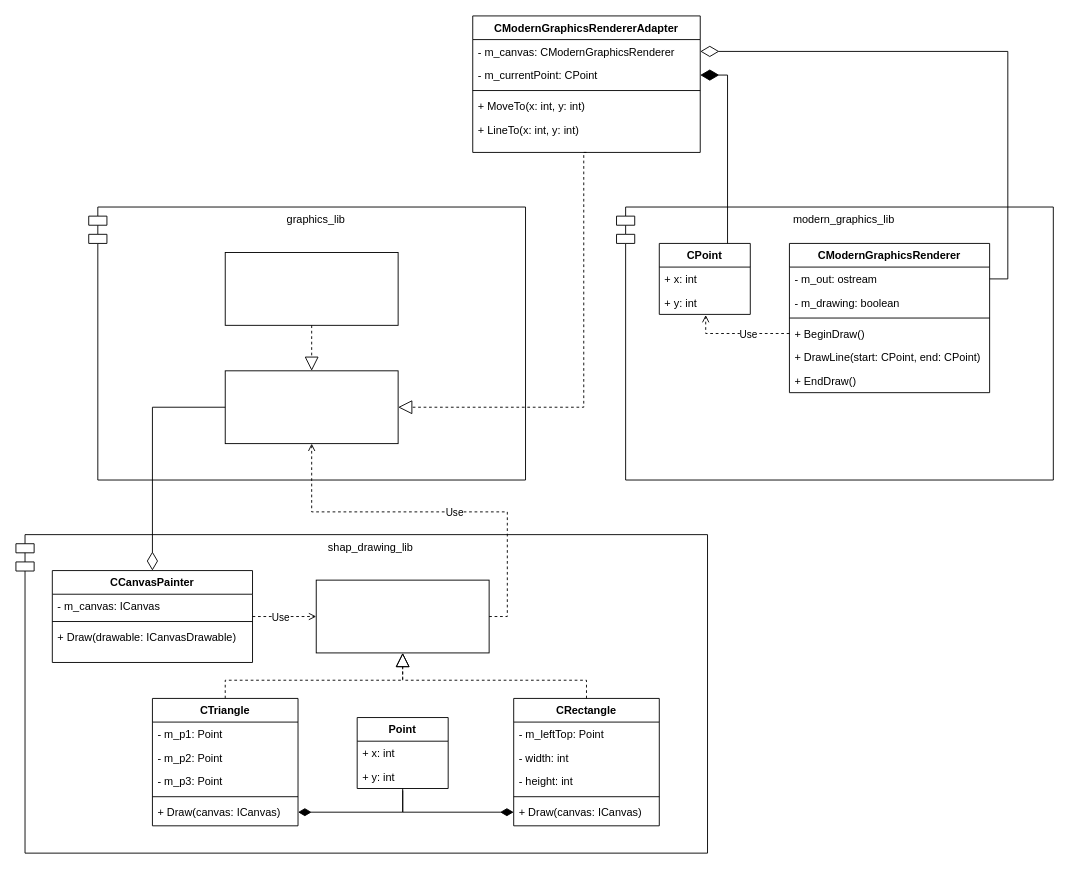
This 1069x869 diagram has some shape labels left out. The shapes that lost their labels are listed below. From the top down, each one's centre as x and y in pixels, then its label:
At point (311, 288): "C Canvas + MoveTo(x: int, y: int) + LineTo(x: int, y: int)".
At point (311, 407): "<<Interface>> ICanvas + MoveTo(x: int, y: int) + LineTo(x: int, y: int)".
At point (402, 616): "<<Interface>> ICanvasDrawable + Draw(canvas: ICanvas)".
